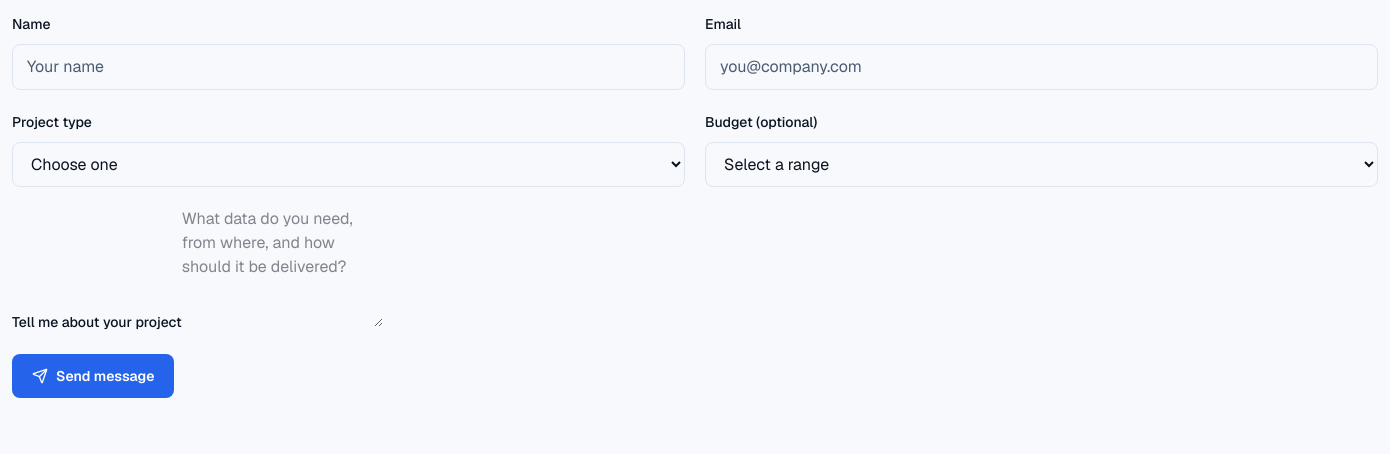
Scenario: ContactForm › explains rate limiting
In the field labelled "Name": [348, 67] box 12,44 -> 685,90, type "Test Person"
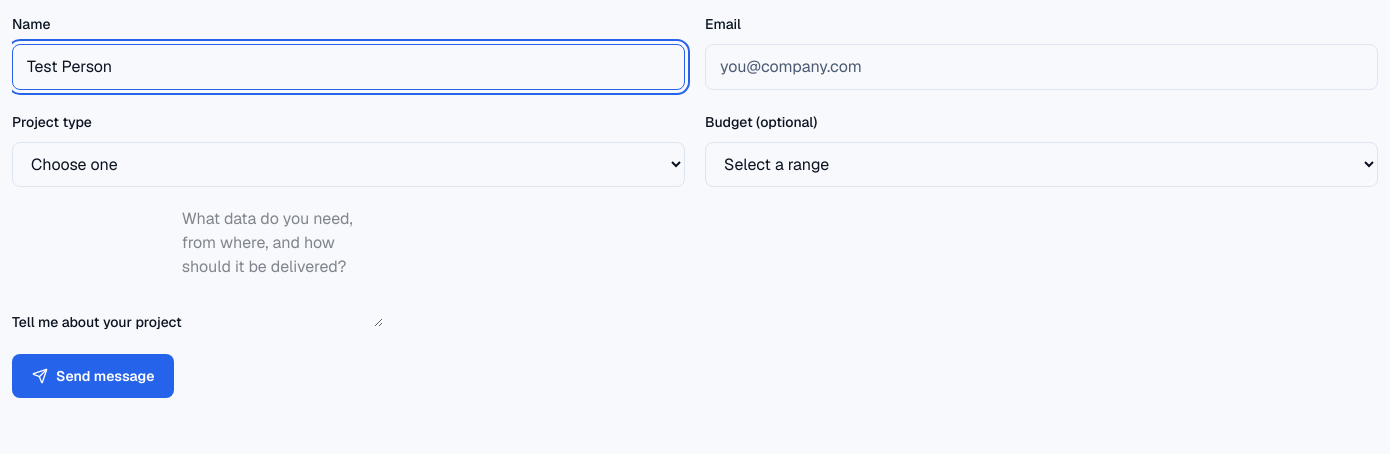
In the field labelled "Email": [1042, 67] box 705,44 -> 1378,90, type "test@example.com"
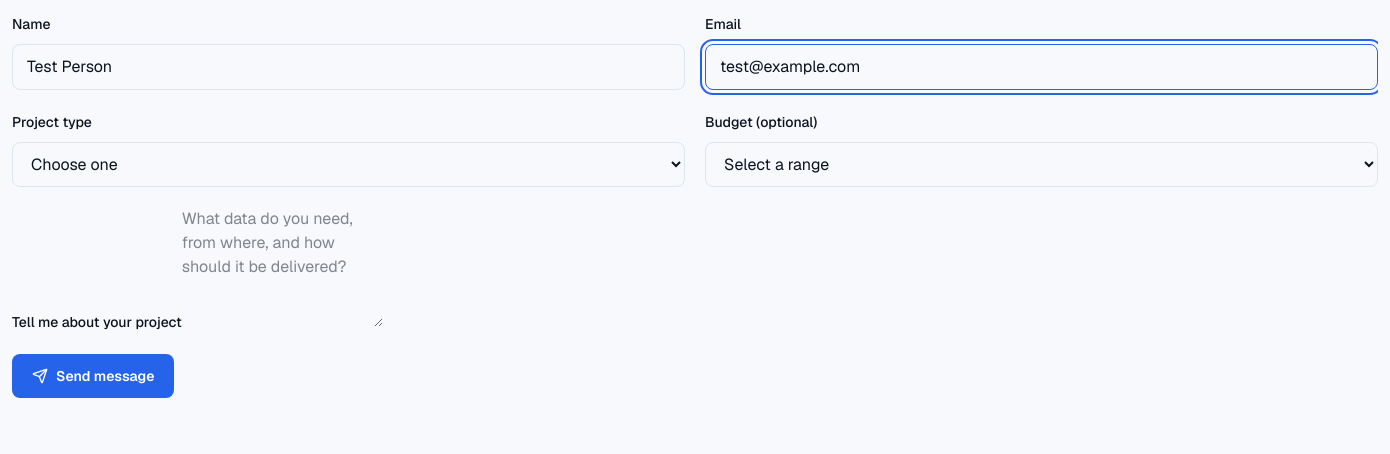
Select "Web scraping" in the dropdown labelled "Project type": [348, 164] box 12,142 -> 685,187
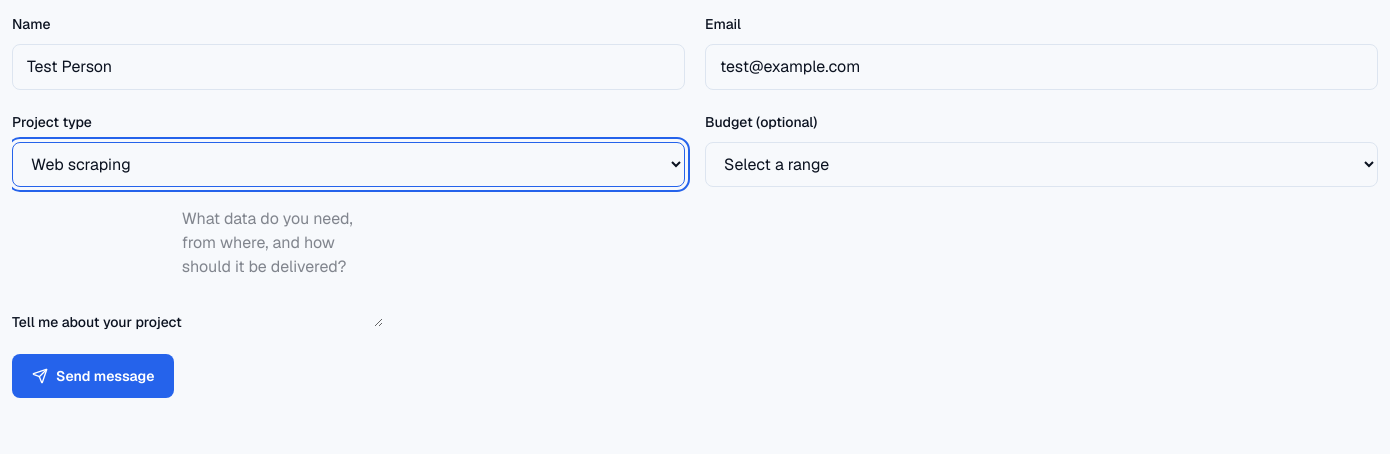
In the text box labelled "Tell me about your project": [282, 267] box 182,207 -> 383,327, type "I need listings from ten portals delivered daily."
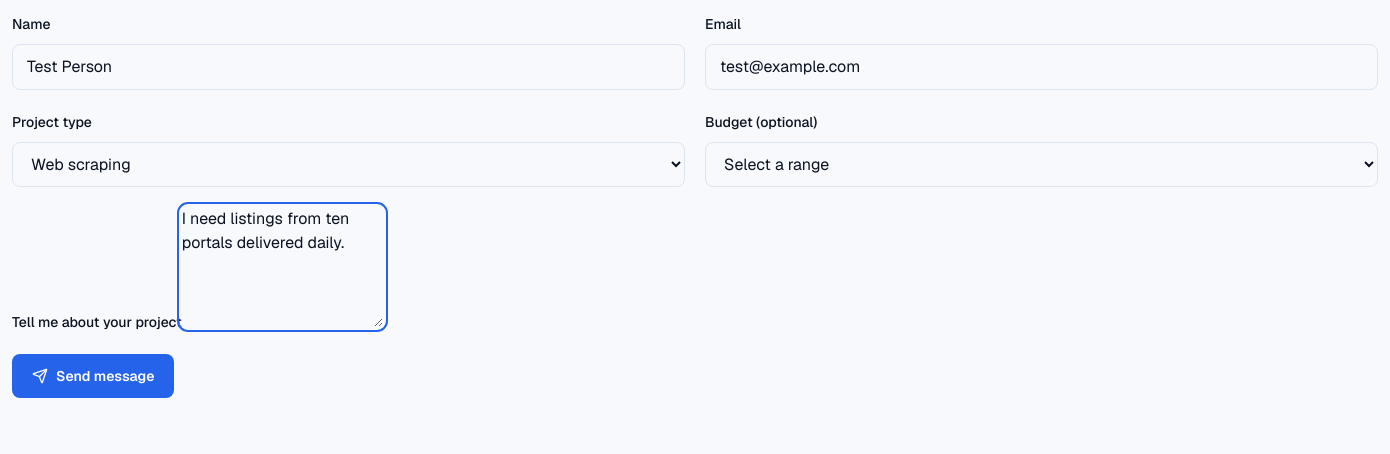
Click the button "Send message": [93, 376] box 12,354 -> 174,398
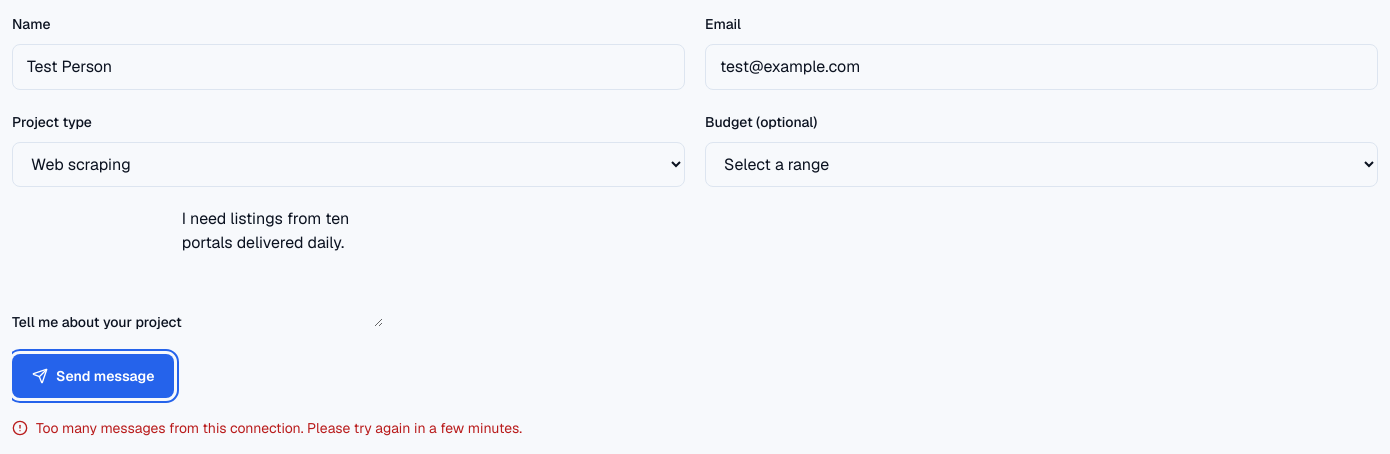
Expected: the message shows "Too many messages", 36,419 -> 522,437
